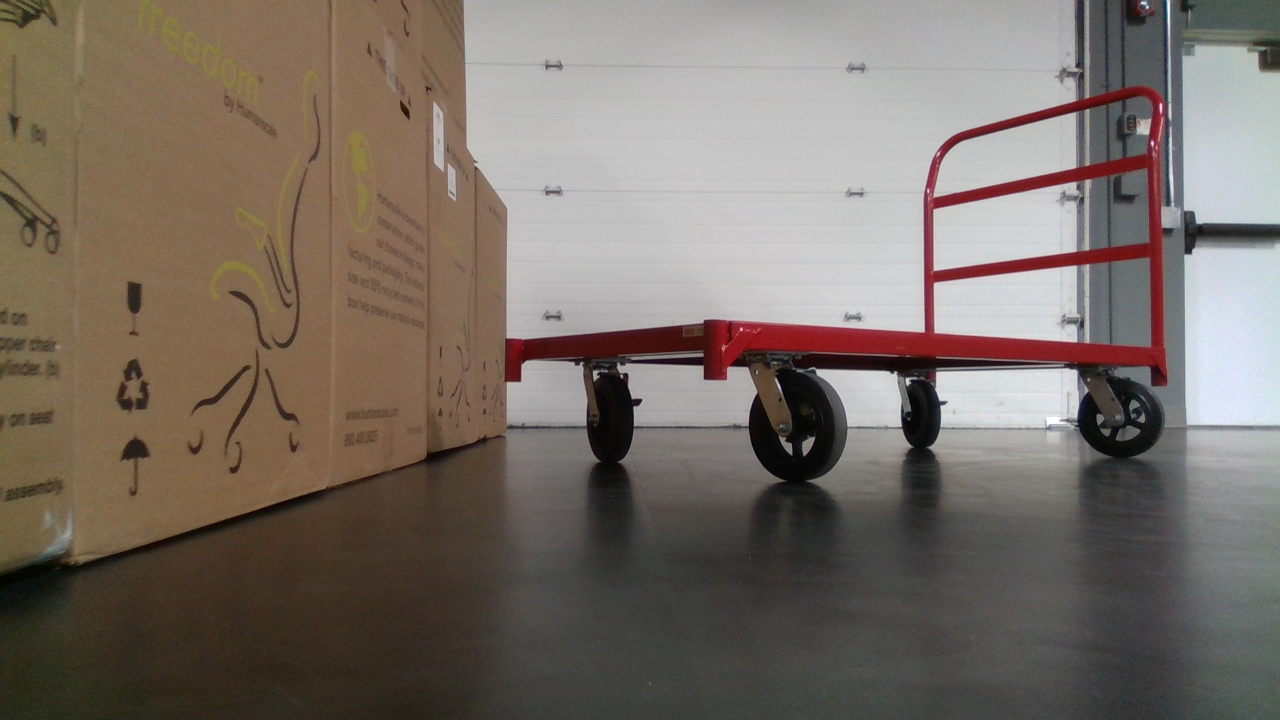Dolly: (498, 76, 1179, 490)
Wheel: (744, 367, 852, 487), (1073, 375, 1168, 460), (582, 369, 643, 465), (899, 377, 950, 450)
